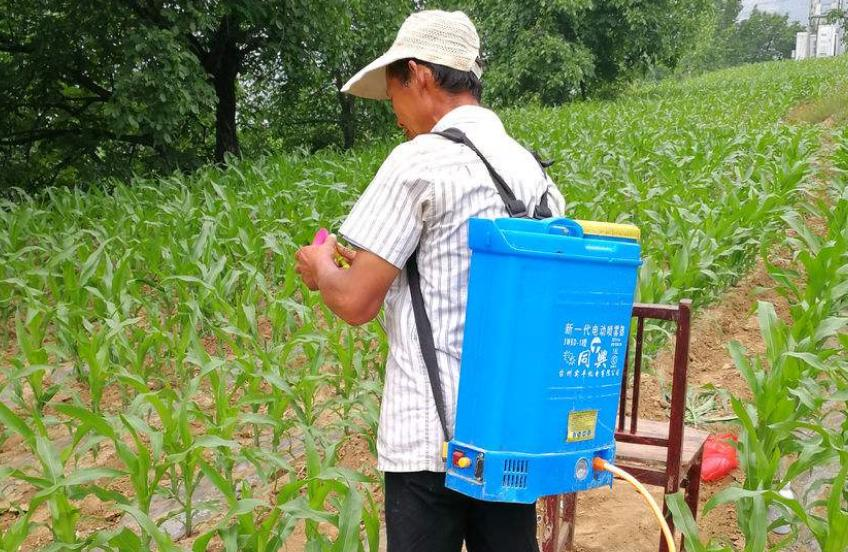berrl: (458, 217, 640, 505)
